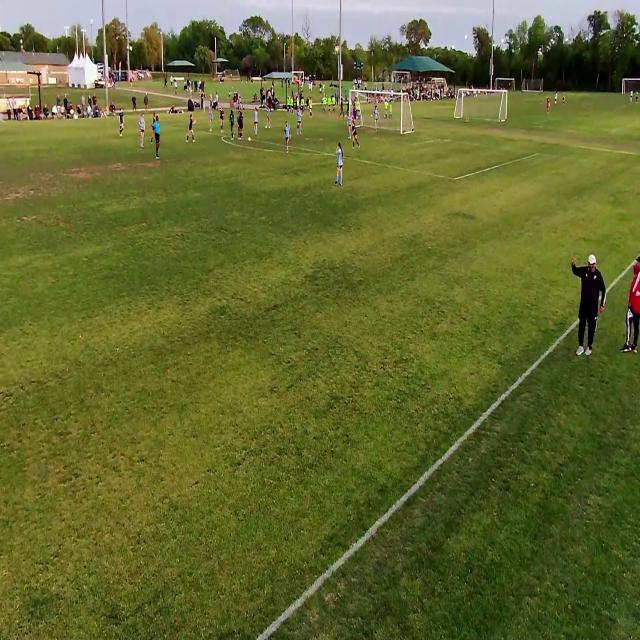ball: (248, 136, 251, 143)
team1: (188, 110, 196, 144), (238, 110, 244, 145), (351, 120, 358, 150), (220, 104, 226, 137), (230, 110, 236, 141), (120, 108, 126, 137), (151, 113, 155, 143)
team2: (336, 142, 345, 190), (138, 112, 146, 148), (285, 121, 293, 155), (208, 105, 215, 135), (254, 107, 260, 139), (297, 107, 303, 137), (346, 114, 352, 140), (266, 106, 272, 131), (374, 108, 379, 132)
